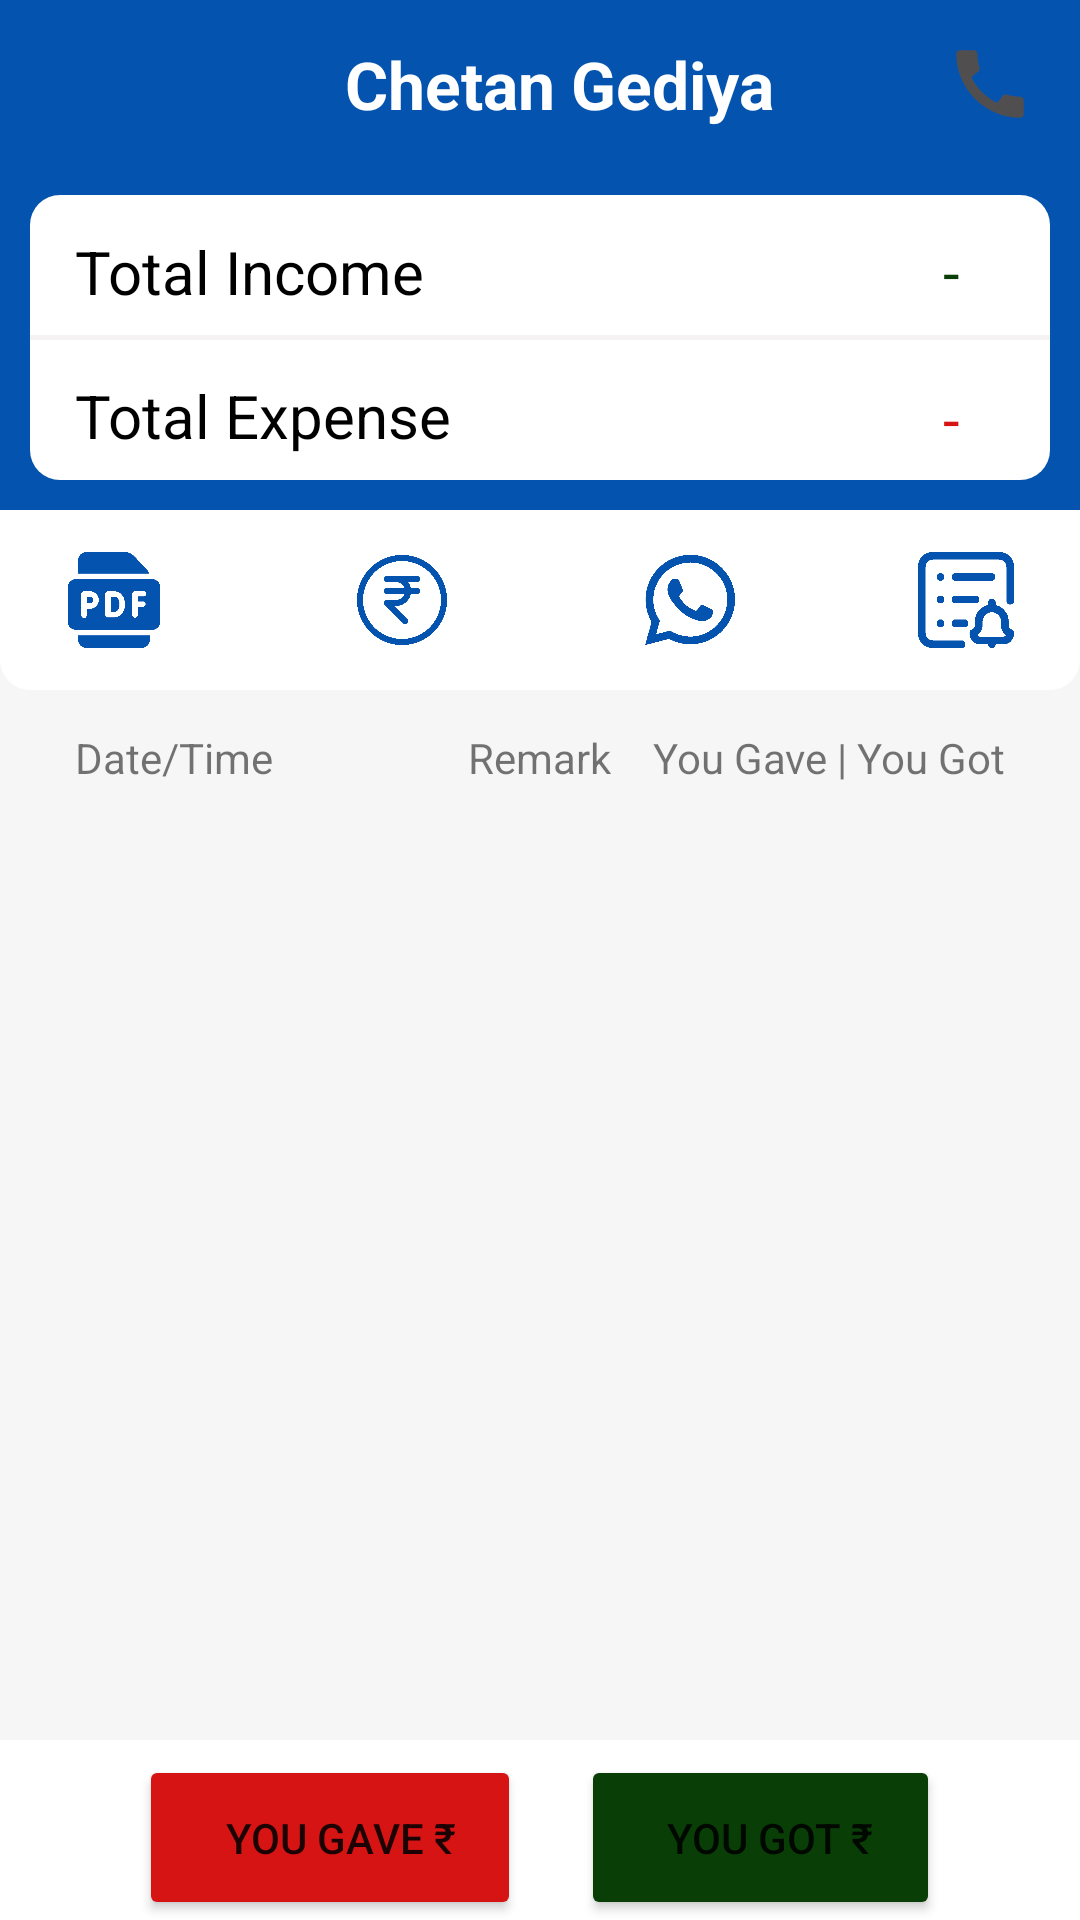

Screen size 1080px×1920px. Icon name, then its center in pixels as point (x, y):
call: point (990, 84)
pay: point (402, 600)
